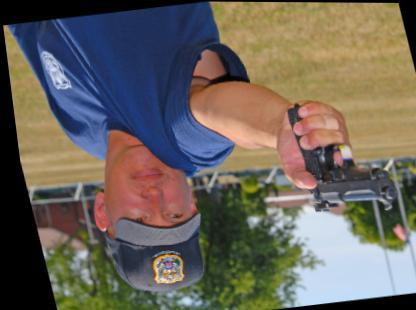pistol: (280, 92, 398, 218)
